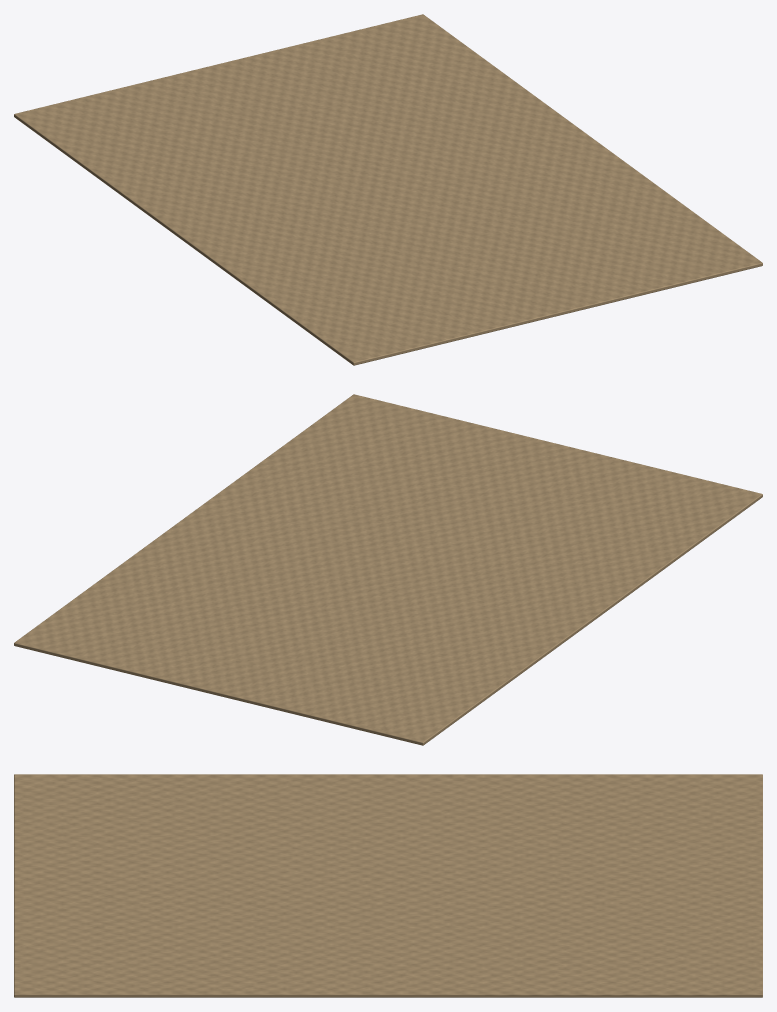
Rendered from lohals.glb.
3 renders of one model, top to bottom at view 1: azimuth 30°, elevation 25°; view 2: azimuth 150°, elevation 25°; view 3: azimuth 270°, elevation 25°, orthographic. The views are drawn at different scales.
Visible parts, largest first — view 1: LOHALS Flatwoven rug; view 2: LOHALS Flatwoven rug; view 3: LOHALS Flatwoven rug.
Boxes of the visible parts, x1=… form: LOHALS Flatwoven rug: x1=14, y1=14, x2=762, y2=365; LOHALS Flatwoven rug: x1=14, y1=394, x2=762, y2=745; LOHALS Flatwoven rug: x1=14, y1=774, x2=762, y2=997.
Size of the model in its own units: 1.6 by 0.013 by 2.3.
Materials: 1 (1 with a texture image).
